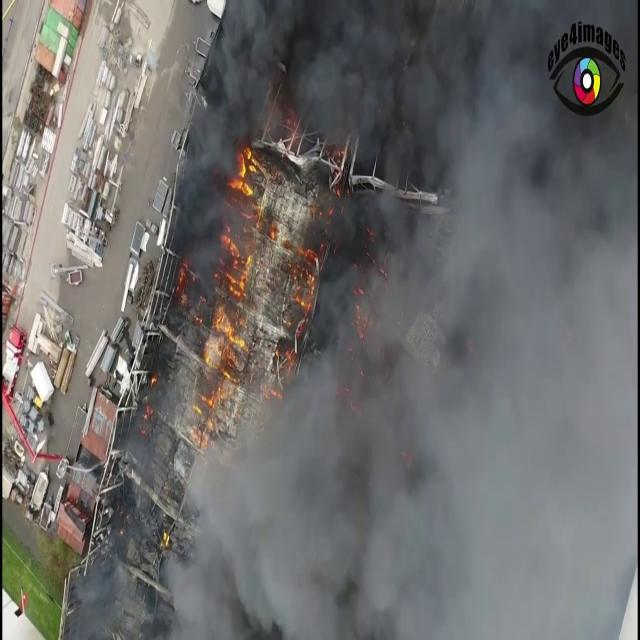Fire: (185, 134, 323, 436)
Smoke: (116, 0, 632, 640)
